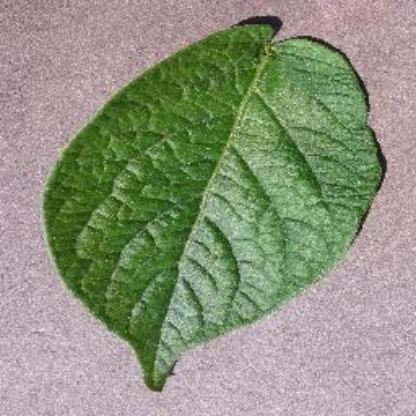Healthy-plant: (40, 17, 390, 396)
